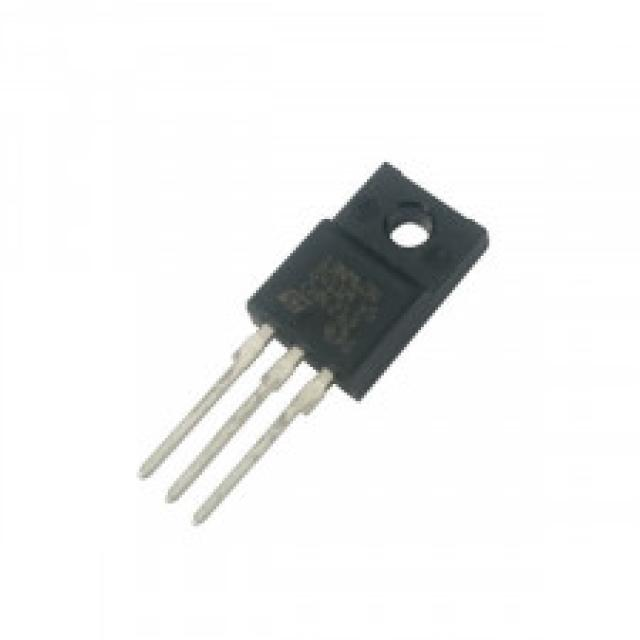Transistor: (137, 159, 484, 528)
